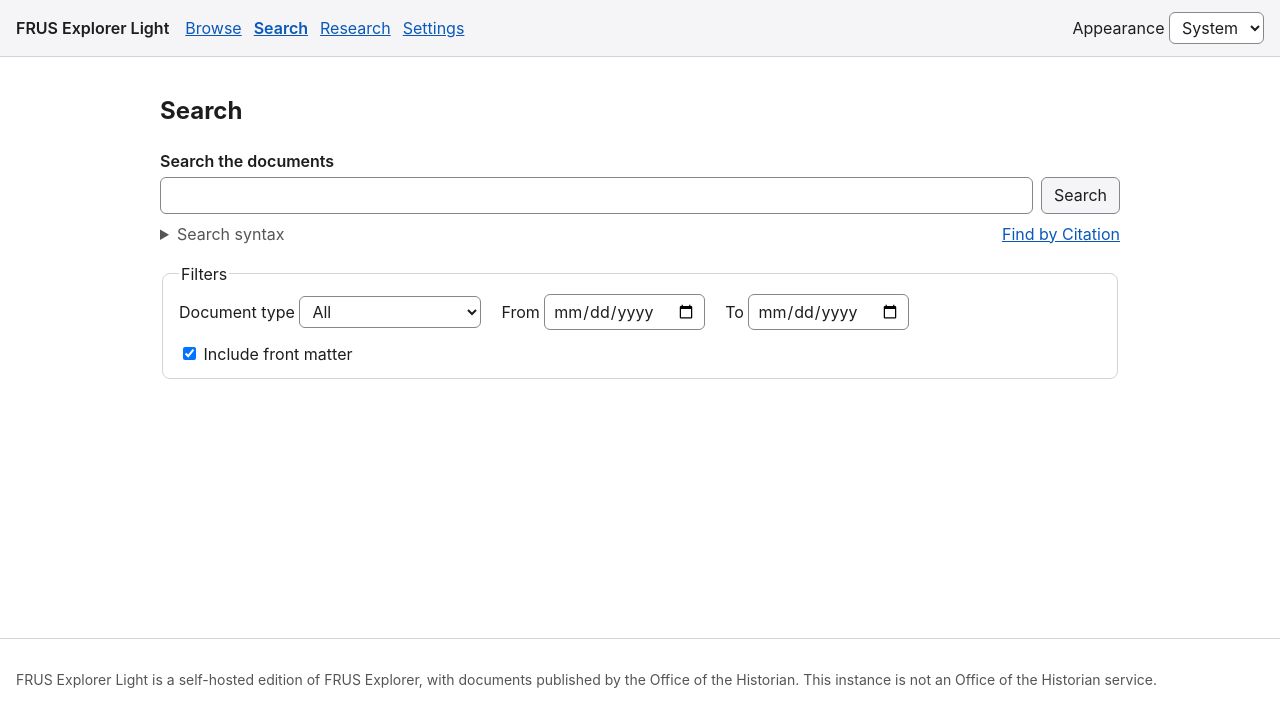
Test case: Citation Lookup › opens from Search’s Find by Citation, with the app’s title, modes and Paste Citation’s fields
What coordinates should you click on to do the following:
click the link "Find by Citation"
I would click on:
 (1061, 234)
Its box is [1002,222,1120,246].
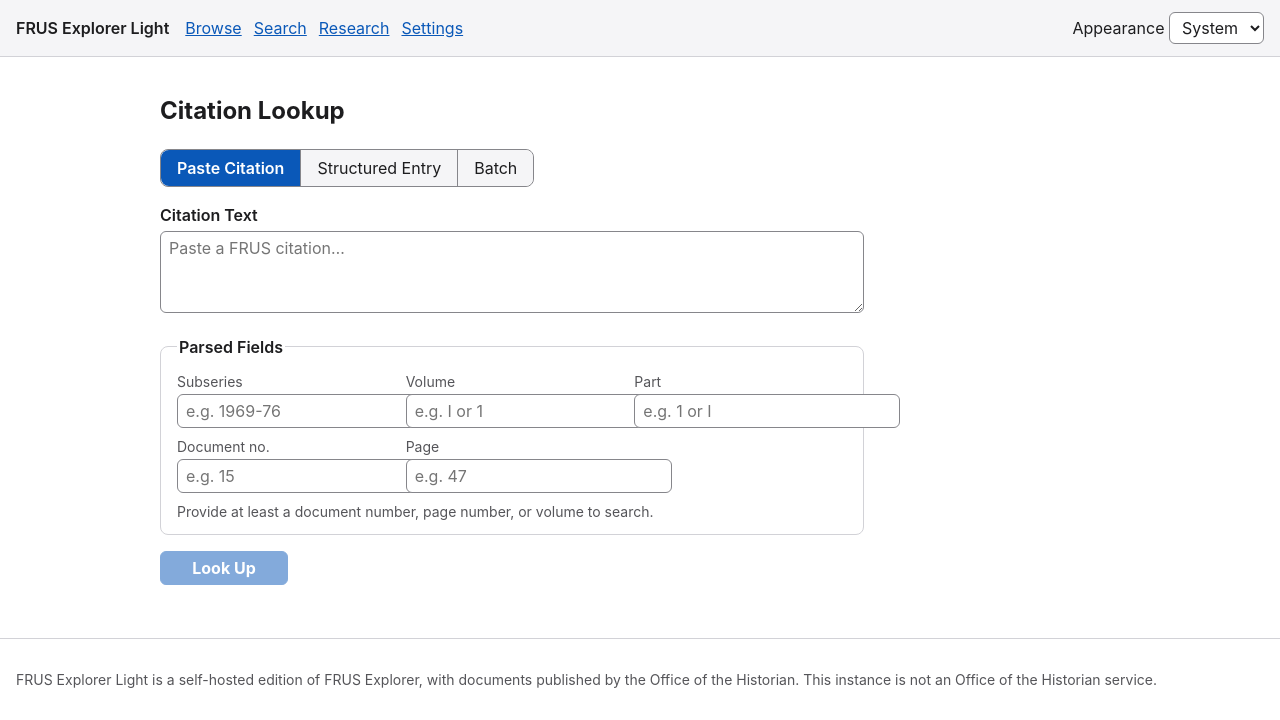
expect the heading "Citation Lookup" is shown: met, box [160,96,345,125]
expect the radio button labelled "Paste Citation" is checked: met, box [161,150,300,186]
expect the element "Parsed Fields" shows "Provide at least a document number, page number, or volume to search.": met, box [177,503,654,520]
